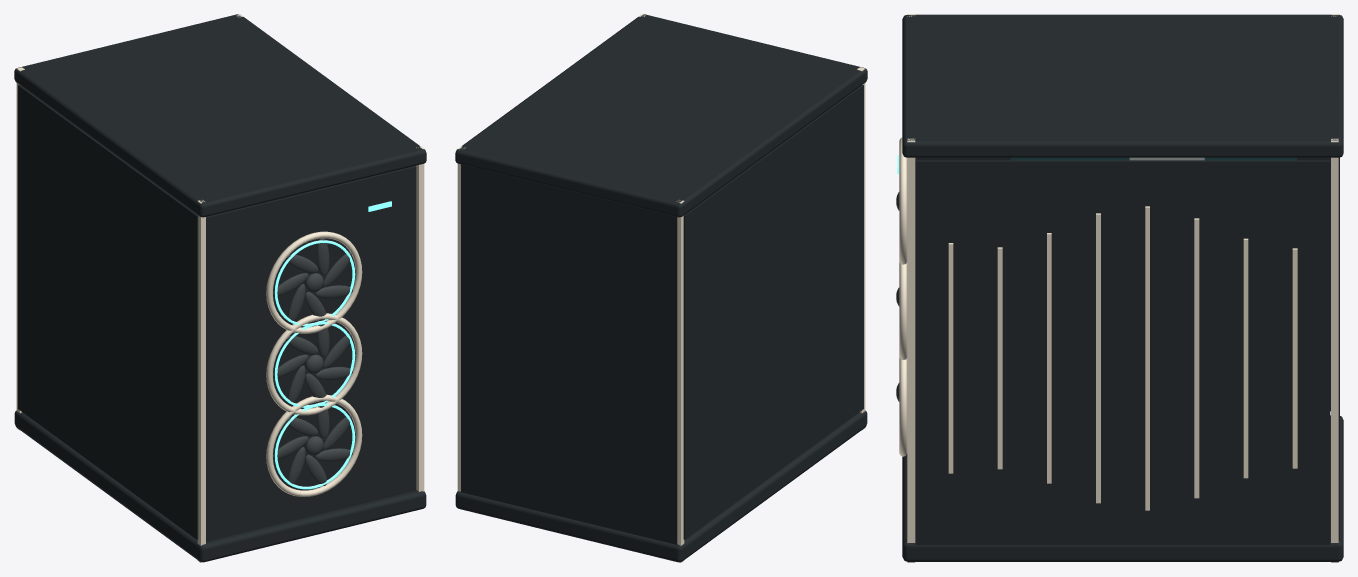
Rendered from pc_case_ai_blade-3e7530c458b1.glb.
3 views of the same model, side by side, from view 1: azimuth 30°, elevation 25°; view 2: azimuth 150°, elevation 25°; view 3: azimuth 270°, elevation 25° (orthographic). The views are drawn at different scales.
Parts seen in each view (by area): view 1: surface_ink, surface_chalk, surface_graphite, surface_cyan; view 2: surface_ink, surface_chalk; view 3: surface_ink, surface_chalk, surface_deep.
Part boxes in pixels (box(x1,y1,x2,y2)): surface_ink: box(14, 14, 426, 562); surface_chalk: box(16, 14, 424, 562); surface_graphite: box(273, 238, 352, 487); surface_cyan: box(275, 201, 391, 489); surface_ink: box(455, 14, 867, 562); surface_chalk: box(457, 14, 865, 562); surface_ink: box(902, 14, 1343, 561); surface_chalk: box(899, 14, 1338, 562); surface_deep: box(1010, 157, 1297, 160).
Bounding box in the file's own units: 0.3943 × 0.604 × 0.5679.
